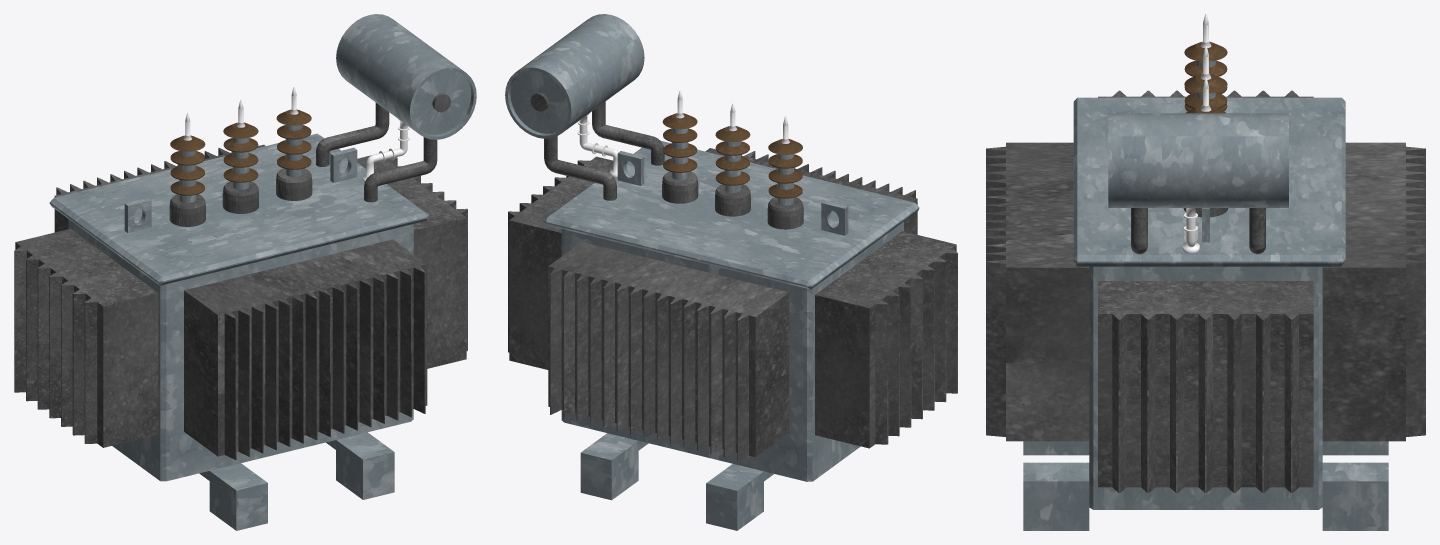
Rendered from SM_YardTransformer.glb.
3 renders of one model, left to right at view 1: azimuth 30°, elevation 25°; view 2: azimuth 150°, elevation 25°; view 3: azimuth 270°, elevation 25°, orthographic. The views are drawn at different scales.
Visible parts, largest first — view 1: SM_YardTransformer; view 2: SM_YardTransformer; view 3: SM_YardTransformer.
Part boxes in pixels (left/top/right/bottom): SM_YardTransformer: left=14, top=14, right=476, bottom=530; SM_YardTransformer: left=505, top=14, right=957, bottom=530; SM_YardTransformer: left=986, top=14, right=1425, bottom=530.
Size of the model in its own units: 8 by 7.46 by 6.42.
Materials: 5 (4 with a texture image).
